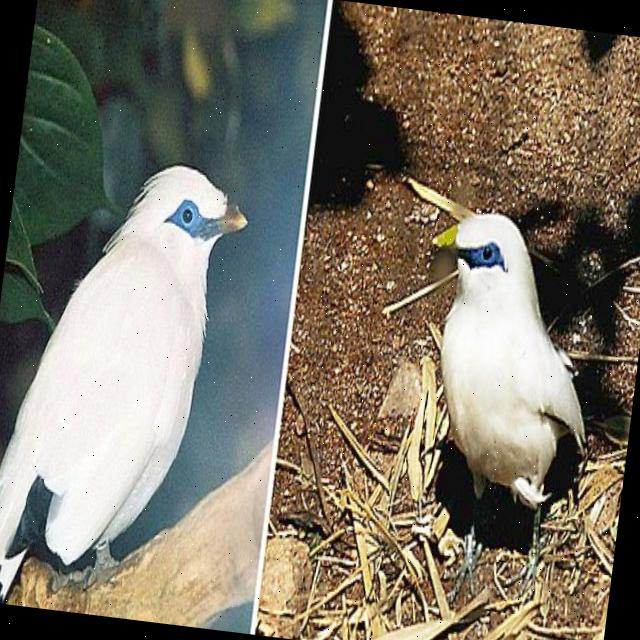Jalak Bali: (0, 116, 261, 628), (365, 170, 634, 583)
